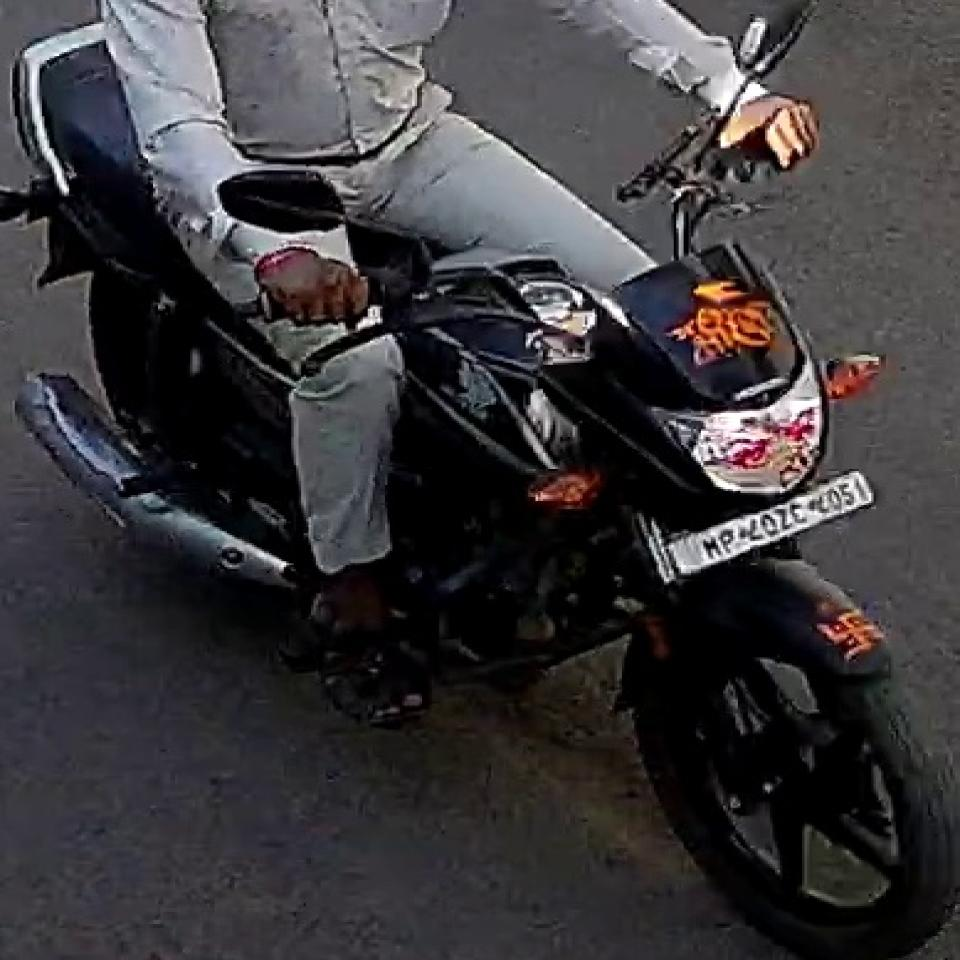head_light: (654, 349, 829, 504)
